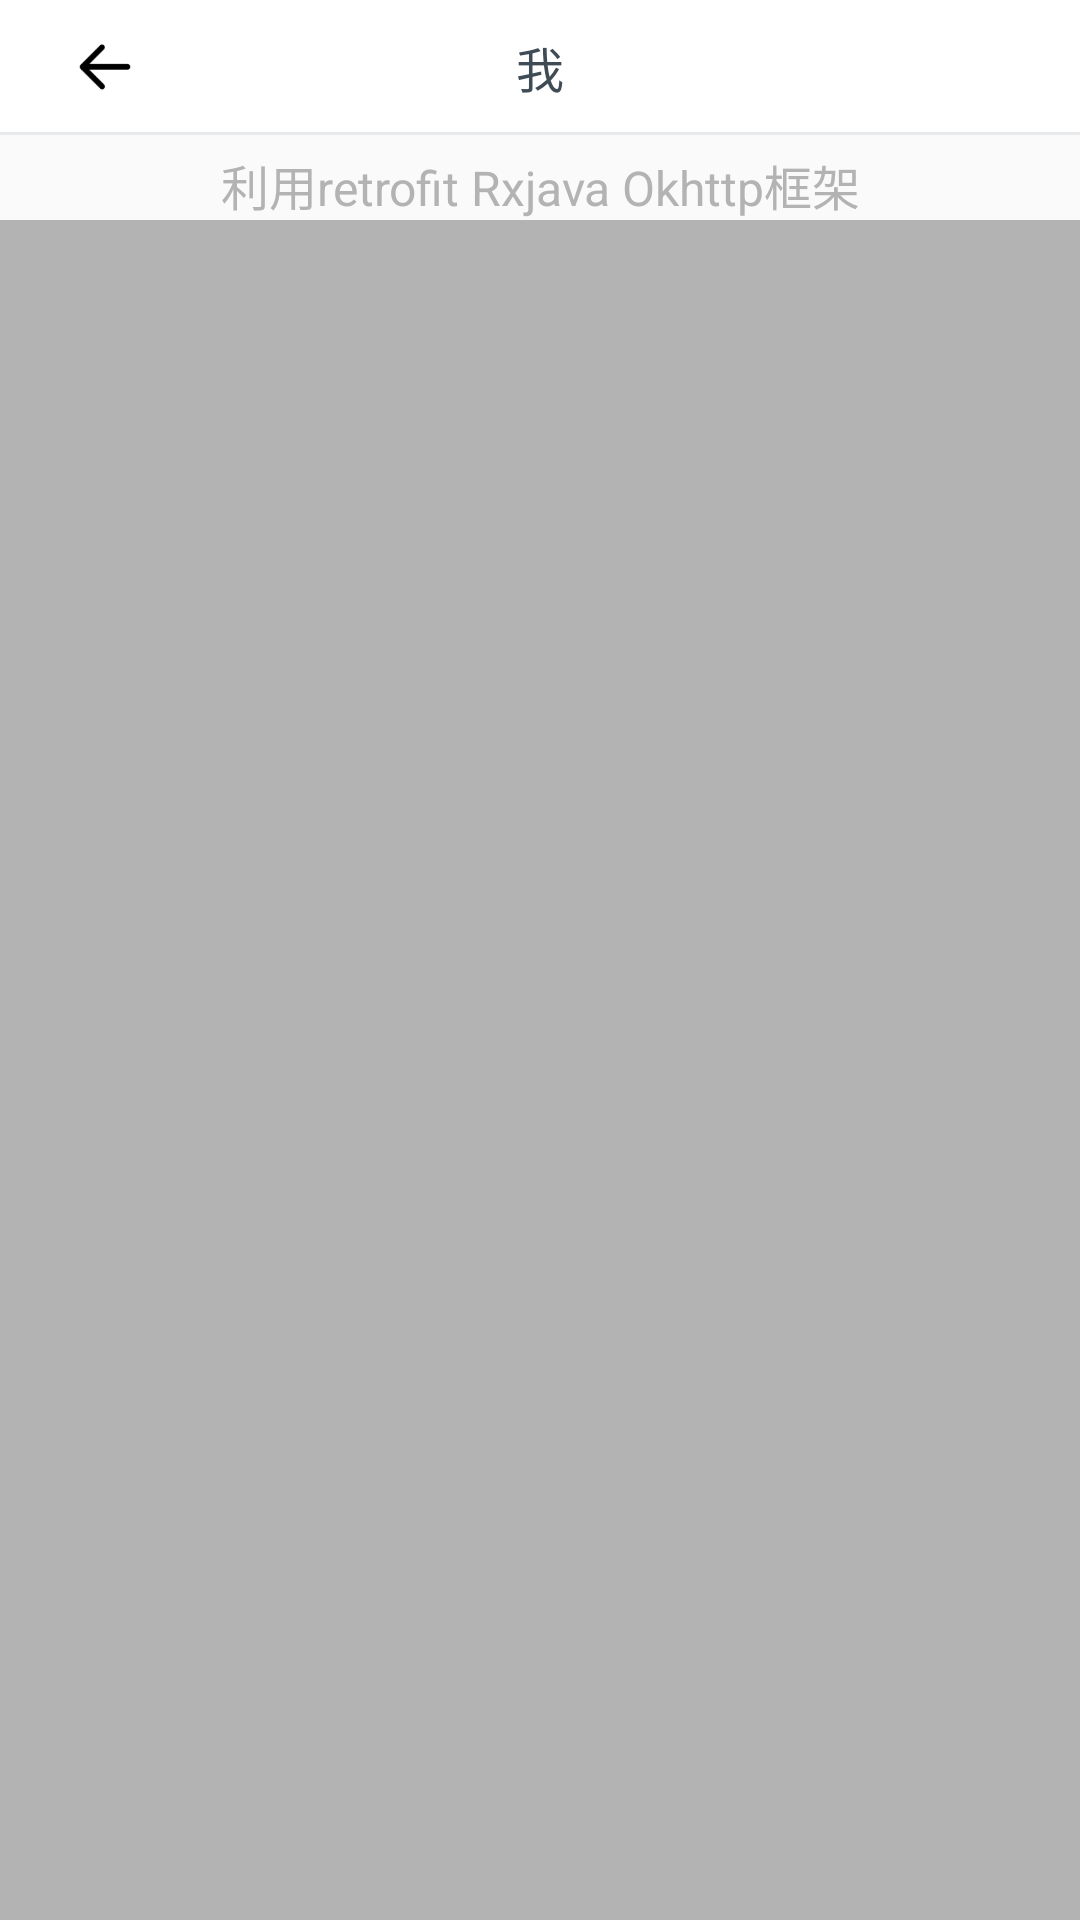

Named icons in this screenshot (1080 × 1920) and their centers, point (x, y):
return: point (105, 67)
